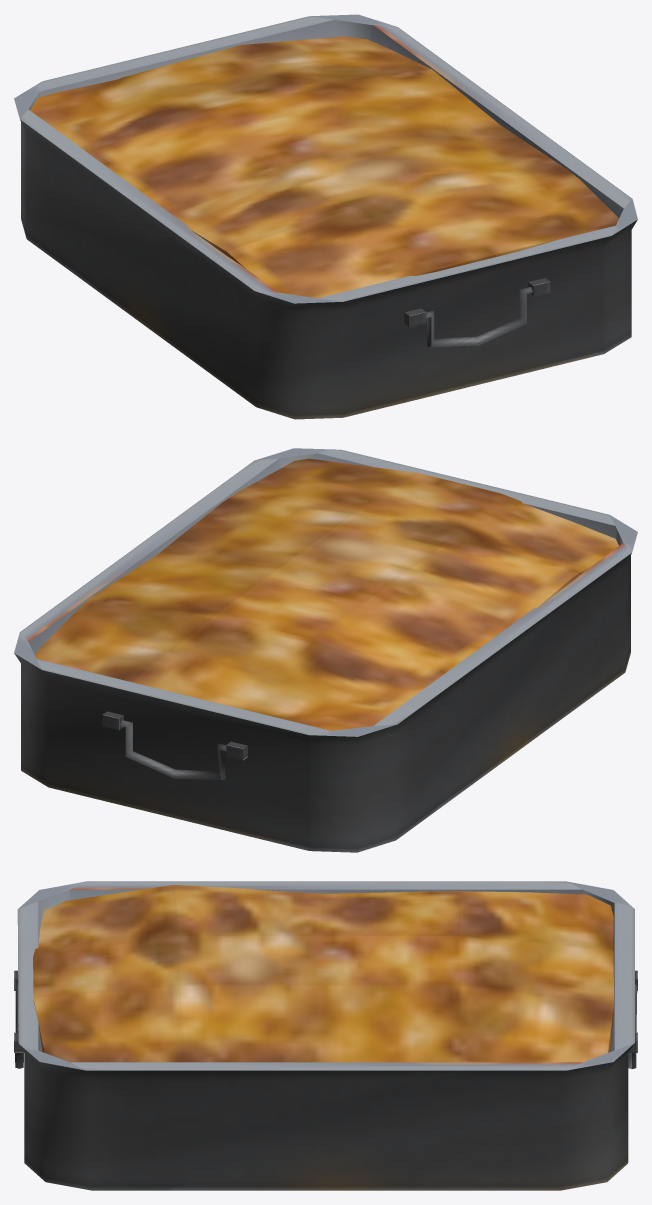
The model's file is LasagnaPan.fbx.
The picture shows the model from 3 angles, top to bottom: view 1: azimuth 30°, elevation 25°; view 2: azimuth 150°, elevation 25°; view 3: azimuth 270°, elevation 25°; orthographic projection. The views are drawn at different scales.
Parts seen in each view (by area): view 1: LasagnaPan; view 2: LasagnaPan; view 3: LasagnaPan.
Boxes of the visible parts, left/top/right/bottom form: LasagnaPan: left=14, top=14, right=637, bottom=419; LasagnaPan: left=14, top=448, right=637, bottom=852; LasagnaPan: left=14, top=881, right=637, bottom=1190.
Bounding box in the file's own units: 49.78 × 16.64 × 69.43.
